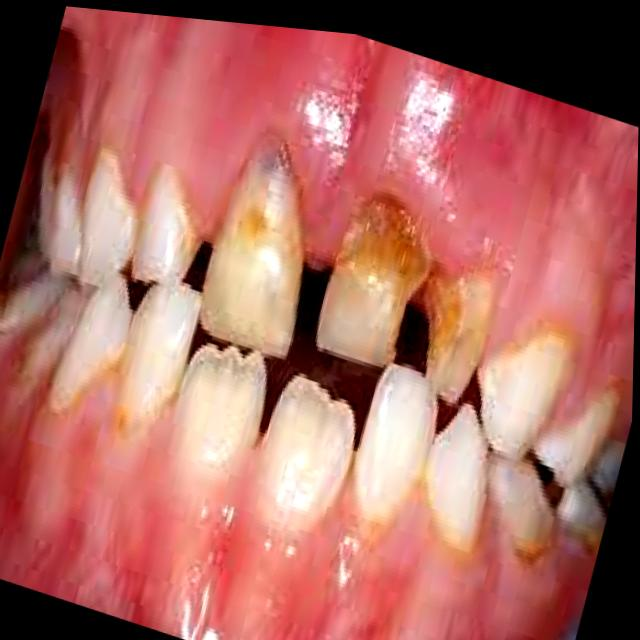cariess: (318, 195, 429, 364), (227, 146, 304, 274), (425, 270, 495, 400)
